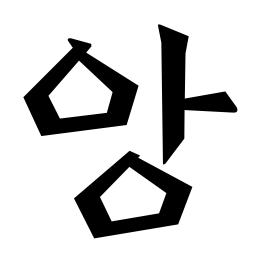Gaji: (152, 81, 202, 130)
